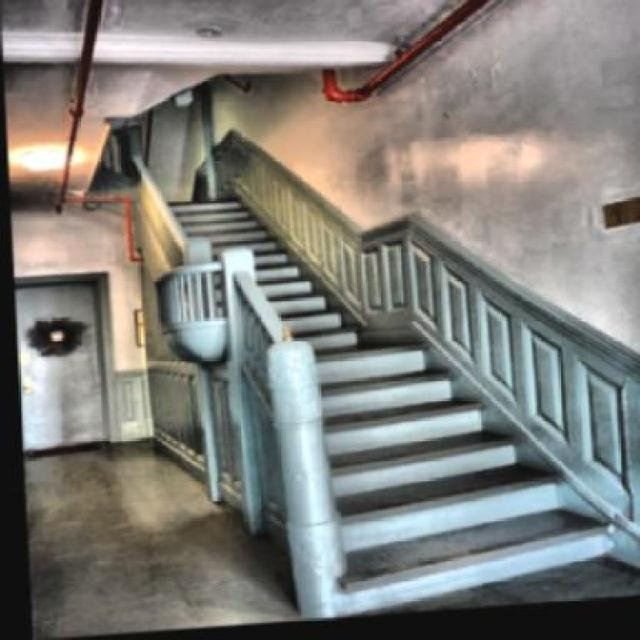stair: (132, 157, 608, 598)
